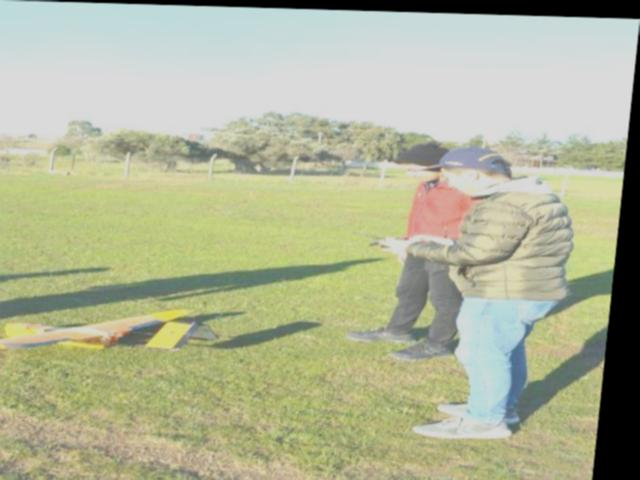iha: (0, 294, 226, 373)
